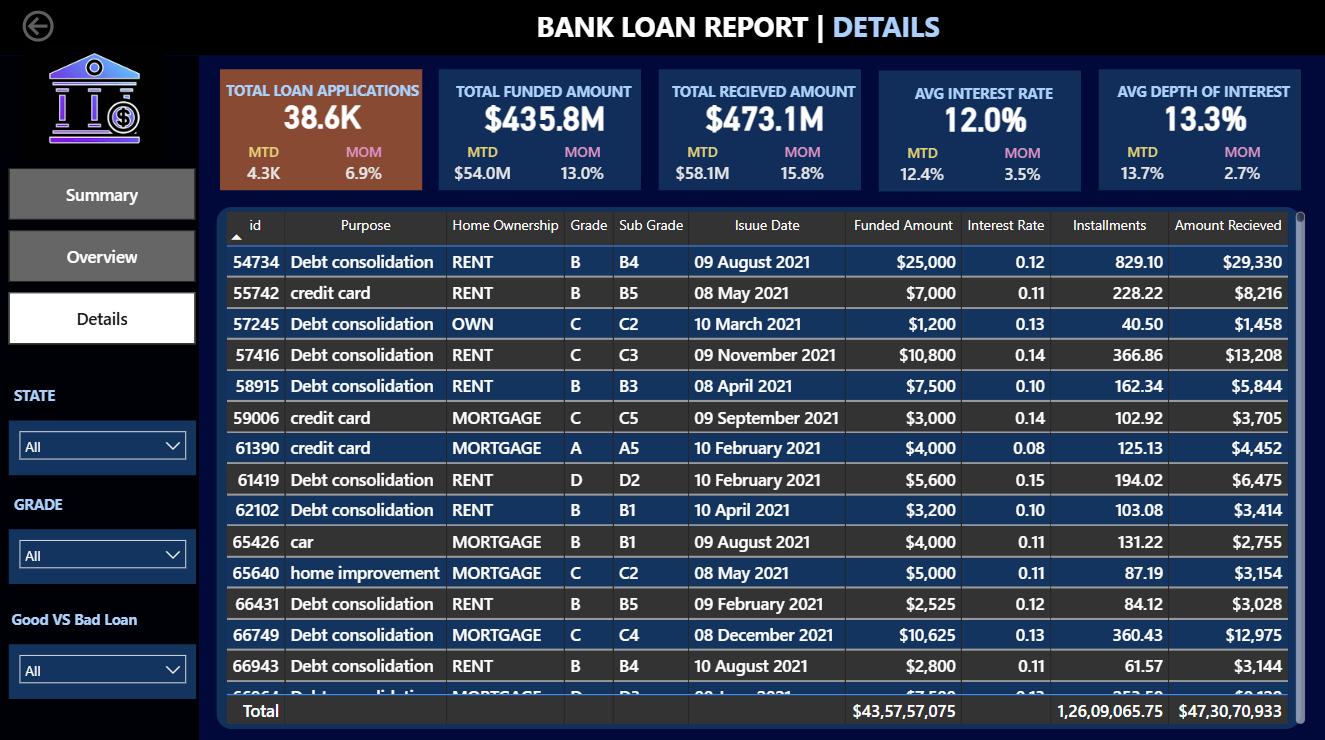

The dashboard page shown, as its layout file describes it:
{"tool":"powerbi","page":{"name":"Details","canvas":[1280,720],"ordinal":2},"visuals":[{"type":"shape","box":[0,0,1280,55],"z":0},{"type":"shape","box":[212.1,68.8,195.4,117],"z":0,"group":"g1"},{"type":"shape","box":[423,68.8,195.4,117],"z":0,"group":"g2"},{"type":"shape","box":[635.3,68.8,195.4,117],"z":0,"group":"g3"},{"type":"shape","box":[1060,68.8,195.4,117],"z":0,"group":"g5"},{"type":"shape","box":[847.7,70,195.4,117],"z":0,"group":"g4"},{"type":"shape","box":[0,55.5,192,664.7],"z":1000},{"type":"card","fields":{"Values":["Measures Table.Total Loan Applications"]},"box":[194.2,90.8,234,44.6],"z":1000,"group":"g1"},{"type":"card","fields":{"Values":["Measures Table.Total Funded Amount"]},"box":[409,92,234,44.6],"z":1000,"group":"g2"},{"type":"card","fields":{"Values":["Measures Table.Total Received Amount"]},"box":[621.3,92,234,44.6],"z":1000,"group":"g3"},{"type":"card","fields":{"Values":["Measures Table.DEPTH OF INTEREST RATE"]},"box":[1046,92,234,44.6],"z":1000,"group":"g5"},{"type":"card","fields":{"Values":["Measures Table.Average Interest Rate"]},"box":[833.7,93.2,234,44.6],"z":1000,"group":"g4"},{"type":"textbox","box":[208.7,75.1,205.1,37.4],"z":2000,"group":"g1"},{"type":"textbox","box":[422.3,76.3,205.1,37.4],"z":2000,"group":"g2"},{"type":"textbox","box":[634.6,76.3,205.1,37.4],"z":2000,"group":"g3"},{"type":"textbox","box":[1059.3,76.3,205.1,37.4],"z":2000,"group":"g5"},{"type":"textbox","box":[847,77.5,205.1,37.4],"z":2000,"group":"g4"},{"type":"shape","box":[208.7,201.5,1047.2,504.3],"z":2000},{"type":"textbox","box":[512.7,3.6,448.8,51.9],"z":3000},{"type":"card","title":"MTD","fields":{"Values":["Measures Table.MTD Loan Applications"]},"box":[212.1,138.8,84.5,47.1],"z":3000,"group":"g1"},{"type":"card","title":"MTD","fields":{"Values":["Measures Table.MTD Funded Amount"]},"box":[423,138.8,84.5,47.1],"z":3000,"group":"g2"},{"type":"card","title":"MTD","fields":{"Values":["Measures Table.MTD Receieved Amount"]},"box":[635.3,138.8,84.5,47.1],"z":3000,"group":"g3"},{"type":"card","title":"MTD","fields":{"Values":["Measures Table.MTD Depth of Interest Rate"]},"box":[1060,138.8,84.5,47.1],"z":3000,"group":"g5"},{"type":"card","title":"MTD","fields":{"Values":["Measures Table.MTD Average Interest Date"]},"box":[847.7,140,84.5,47.1],"z":3000,"group":"g4"},{"type":"group","id":"g1","title":"Group 1","box":[194.2,68.8,234,117],"z":4000},{"type":"card","title":"MOM","fields":{"Values":["Measures Table.Mom Total Applications"]},"box":[308.6,138.8,84.5,47.1],"z":4000,"group":"g1"},{"type":"card","title":"MOM","fields":{"Values":["Measures Table.Mom Funded Amount"]},"box":[519.6,138.8,84.5,47.1],"z":4000,"group":"g2"},{"type":"card","title":"MOM","fields":{"Values":["Measures Table.Mom Recieved Amount"]},"box":[731.9,138.8,84.5,47.1],"z":4000,"group":"g3"},{"type":"card","title":"MOM","fields":{"Values":["Measures Table.Mom Depth of Interest Rate"]},"box":[1156.6,138.8,84.5,47.1],"z":4000,"group":"g5"},{"type":"card","title":"MOM","fields":{"Values":["Measures Table.Mom Average Interest Date"]},"box":[944.3,140,84.5,47.1],"z":4000,"group":"g4"},{"type":"group","id":"g2","title":"Group 1","box":[409,68.8,234,117],"z":5000},{"type":"group","id":"g3","title":"Group 1","box":[621.3,68.8,234,117],"z":6000},{"type":"group","id":"g4","title":"Group 1","box":[833.7,70,234,117],"z":7000},{"type":"group","id":"g5","title":"Group 1","box":[1046,68.8,234,117],"z":8000},{"type":"slicer","fields":{"Values":["financial_loan_data.address_state"]},"box":[8.4,407.8,181,53.1],"z":9000},{"type":"textbox","box":[8.4,369.2,76,38.6],"z":10000},{"type":"slicer","fields":{"Values":["financial_loan_data.grade"]},"box":[8.4,512.7,181,53.1],"z":11000},{"type":"textbox","box":[8.4,474.1,76,38.6],"z":12000},{"type":"slicer","fields":{"Values":["financial_loan_data.Good Loan vs Bad Loan"]},"box":[8.4,623.7,181,53.1],"z":13000},{"type":"textbox","box":[6,585.1,168.9,38.6],"z":14000},{"type":"actionButton","box":[16.9,7.2,100.1,39.8],"z":15000},{"type":"tableEx","fields":{"Values":["financial_loan_data.id","financial_loan_data.purpose","financial_loan_data.home_ownership","financial_loan_data.grade","financial_loan_data.sub_grade","financial_loan_data.issue_date","Measures Table.Total Funded Amount","financial_loan_data.int_rate","Sum(financial_loan_data.installment)","Measures Table.Total Received Amount"]},"box":[212.3,201.5,1052,504.3],"z":16000},{"type":"image","box":[8.4,39.8,164.1,121.9],"z":17000},{"type":"pageNavigator","box":[8.4,164.1,181,171.3],"z":18000}]}

Visuals, with their boxes in screenshot pixels (x1, y1, x2, y2), scaled from the page's 1280x720 canvas onto the 1325x740 screenshot:
shape: [0, 0, 1324, 57]
shape: [220, 71, 422, 191]
shape: [438, 71, 640, 191]
shape: [658, 71, 860, 191]
shape: [1097, 71, 1300, 191]
shape: [878, 72, 1080, 192]
shape: [0, 57, 199, 739]
card - Measures Table.Total Loan Applications: [201, 93, 443, 139]
card - Measures Table.Total Funded Amount: [423, 95, 666, 140]
card - Measures Table.Total Received Amount: [643, 95, 885, 140]
card - Measures Table.DEPTH OF INTEREST RATE: [1083, 95, 1324, 140]
card - Measures Table.Average Interest Rate: [863, 96, 1105, 142]
textbox: [216, 77, 428, 116]
textbox: [437, 78, 649, 117]
textbox: [657, 78, 869, 117]
textbox: [1097, 78, 1309, 117]
textbox: [877, 80, 1089, 118]
shape: [216, 207, 1300, 725]
textbox: [531, 4, 995, 57]
"MTD" card: [220, 143, 307, 191]
"MTD" card: [438, 143, 525, 191]
"MTD" card: [658, 143, 745, 191]
"MTD" card: [1097, 143, 1185, 191]
"MTD" card: [878, 144, 965, 192]
"Group 1" group: [201, 71, 443, 191]
"MOM" card: [319, 143, 407, 191]
"MOM" card: [538, 143, 625, 191]
"MOM" card: [758, 143, 845, 191]
"MOM" card: [1197, 143, 1285, 191]
"MOM" card: [977, 144, 1065, 192]
"Group 1" group: [423, 71, 666, 191]
"Group 1" group: [643, 71, 885, 191]
"Group 1" group: [863, 72, 1105, 192]
"Group 1" group: [1083, 71, 1324, 191]
slicer - financial_loan_data.address_state: [9, 419, 196, 474]
textbox: [9, 379, 87, 419]
slicer - financial_loan_data.grade: [9, 527, 196, 582]
textbox: [9, 487, 87, 527]
slicer - financial_loan_data.Good Loan vs Bad Loan: [9, 641, 196, 696]
textbox: [6, 601, 181, 641]
actionButton: [17, 7, 121, 48]
tableEx - financial_loan_data.id x financial_loan_data.purpose: [220, 207, 1309, 725]
image: [9, 41, 179, 166]
pageNavigator: [9, 169, 196, 345]
